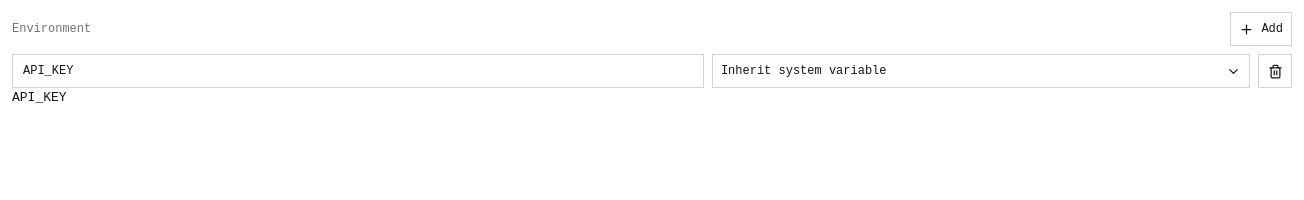
Test: editable list controls › hides the value input for inherited variables and restores it for custom values
Click the button with aria-label "Value source" at (804, 71), box [713, 55, 1249, 87]
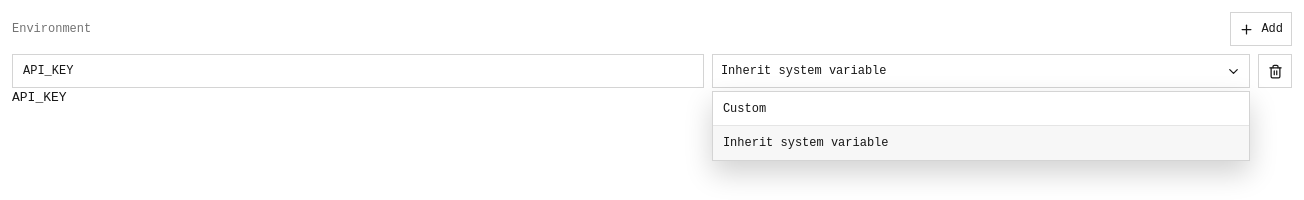
Click the option "Custom" at (744, 108), box [713, 92, 1249, 126]
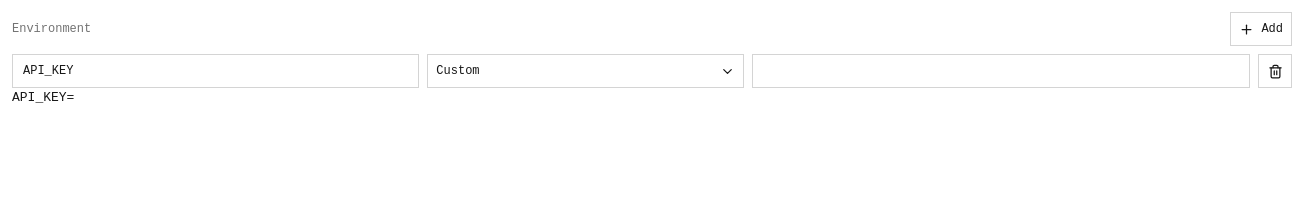
Now the field named "Value" is enabled
Type "secret-reference" into the field named "Value" at (1001, 71), box [752, 54, 1250, 88]
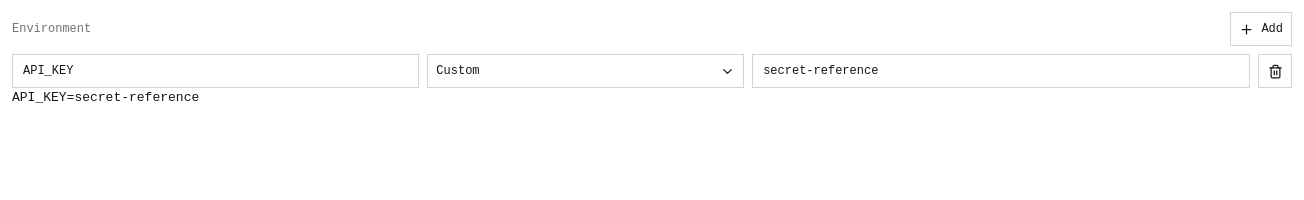
Now the text with test id "serialized-env" reads "API_KEY=secret-reference", box [12, 90, 199, 105]
